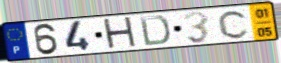3: (182, 10, 213, 45)
4: (63, 19, 95, 54)
6: (32, 23, 59, 56)
C: (217, 9, 252, 40)
D: (138, 15, 173, 48)
H: (101, 15, 140, 52)
